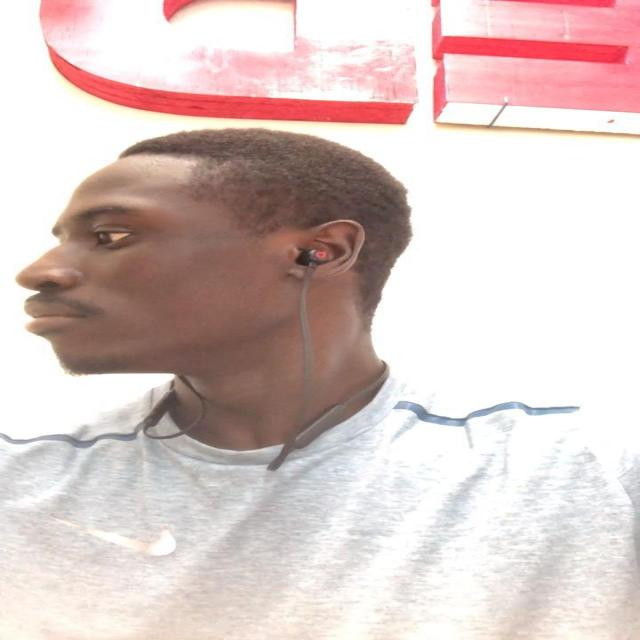face: (16, 152, 345, 378)
